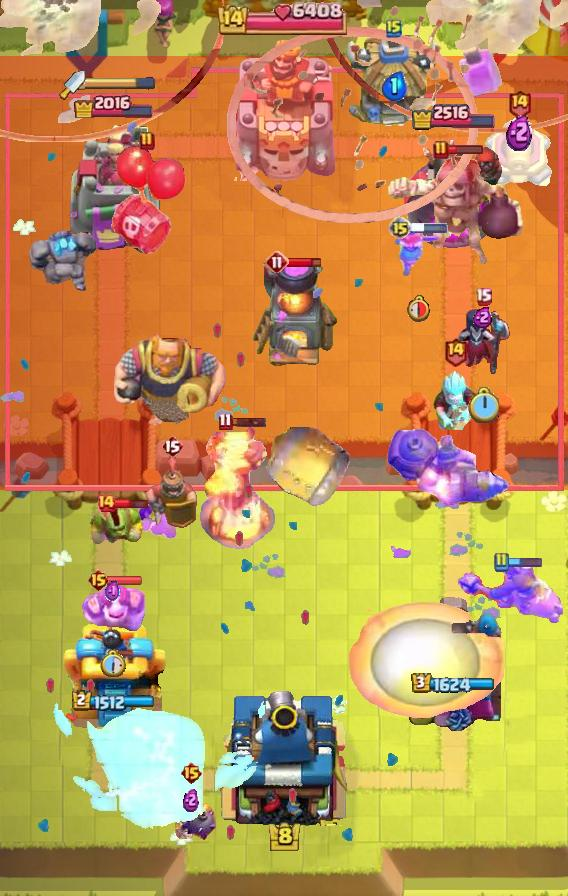bar: (67, 122, 161, 256)
clock: (217, 1, 351, 35)
dirt: (263, 419, 353, 511)
earthquake: (144, 456, 200, 532)
electro-dragon: (199, 424, 277, 552)
electro-giant: (385, 154, 527, 268)
electro-spirit: (506, 113, 532, 151), (381, 71, 407, 101), (473, 306, 493, 328), (183, 787, 199, 812), (105, 580, 119, 603)
elixir: (469, 387, 500, 423), (99, 649, 125, 678), (405, 294, 430, 322)
elixir-golem-small: (79, 580, 145, 634)
emote: (114, 497, 149, 511), (286, 256, 321, 269), (230, 416, 267, 428), (507, 556, 543, 568), (448, 145, 485, 156), (107, 574, 143, 585), (410, 223, 448, 233)
flying-machine: (87, 501, 147, 555)
freeze: (458, 558, 566, 626)
giant-skeleton: (112, 328, 228, 428)
goblin-ball: (164, 789, 218, 845)
hog-rider: (393, 224, 441, 278)
hunter: (251, 259, 339, 369)
king-tower: (214, 684, 354, 826), (228, 35, 340, 181)
king-tower-bar: (85, 77, 155, 91)
knight-evolution: (459, 42, 503, 98)
mega-knight: (53, 687, 270, 833)
mortar: (430, 366, 480, 430)
prince: (343, 35, 445, 131)
queen-tower: (60, 617, 168, 731)
rascal-boy: (454, 307, 512, 377)
royal-ghost: (320, 0, 568, 132), (0, 0, 224, 142)
royal-recruit: (483, 118, 555, 192)
royal-recruit-evolution: (107, 144, 187, 258)
selected: (410, 101, 496, 130), (73, 92, 155, 118), (411, 672, 495, 694), (72, 690, 156, 712)
skeleton-barrel: (226, 0, 490, 224)
text: (444, 336, 469, 367), (508, 88, 532, 119), (388, 216, 412, 240), (265, 250, 289, 274), (86, 568, 109, 592), (180, 761, 203, 785), (161, 434, 183, 458), (96, 493, 116, 513), (386, 18, 402, 38), (139, 131, 155, 151), (433, 140, 449, 160), (493, 552, 509, 572), (476, 287, 493, 305), (218, 413, 233, 431)
tower-bar: (404, 593, 502, 731), (401, 132, 508, 256)
valkyrie: (348, 599, 504, 721)
valkyrie-evolution: (25, 226, 97, 294)
wizard: (386, 428, 510, 506)
